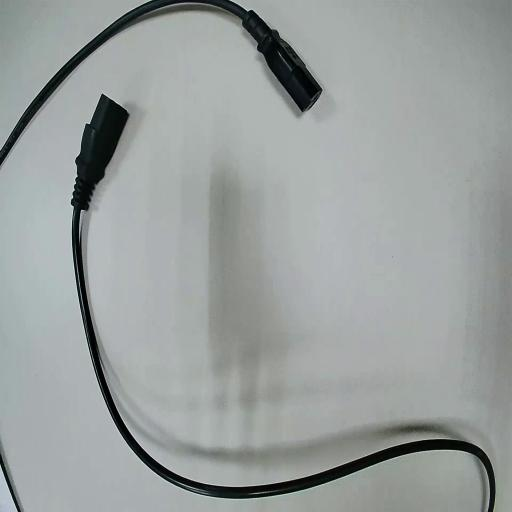wire: (72, 96, 494, 511), (0, 0, 320, 162)
